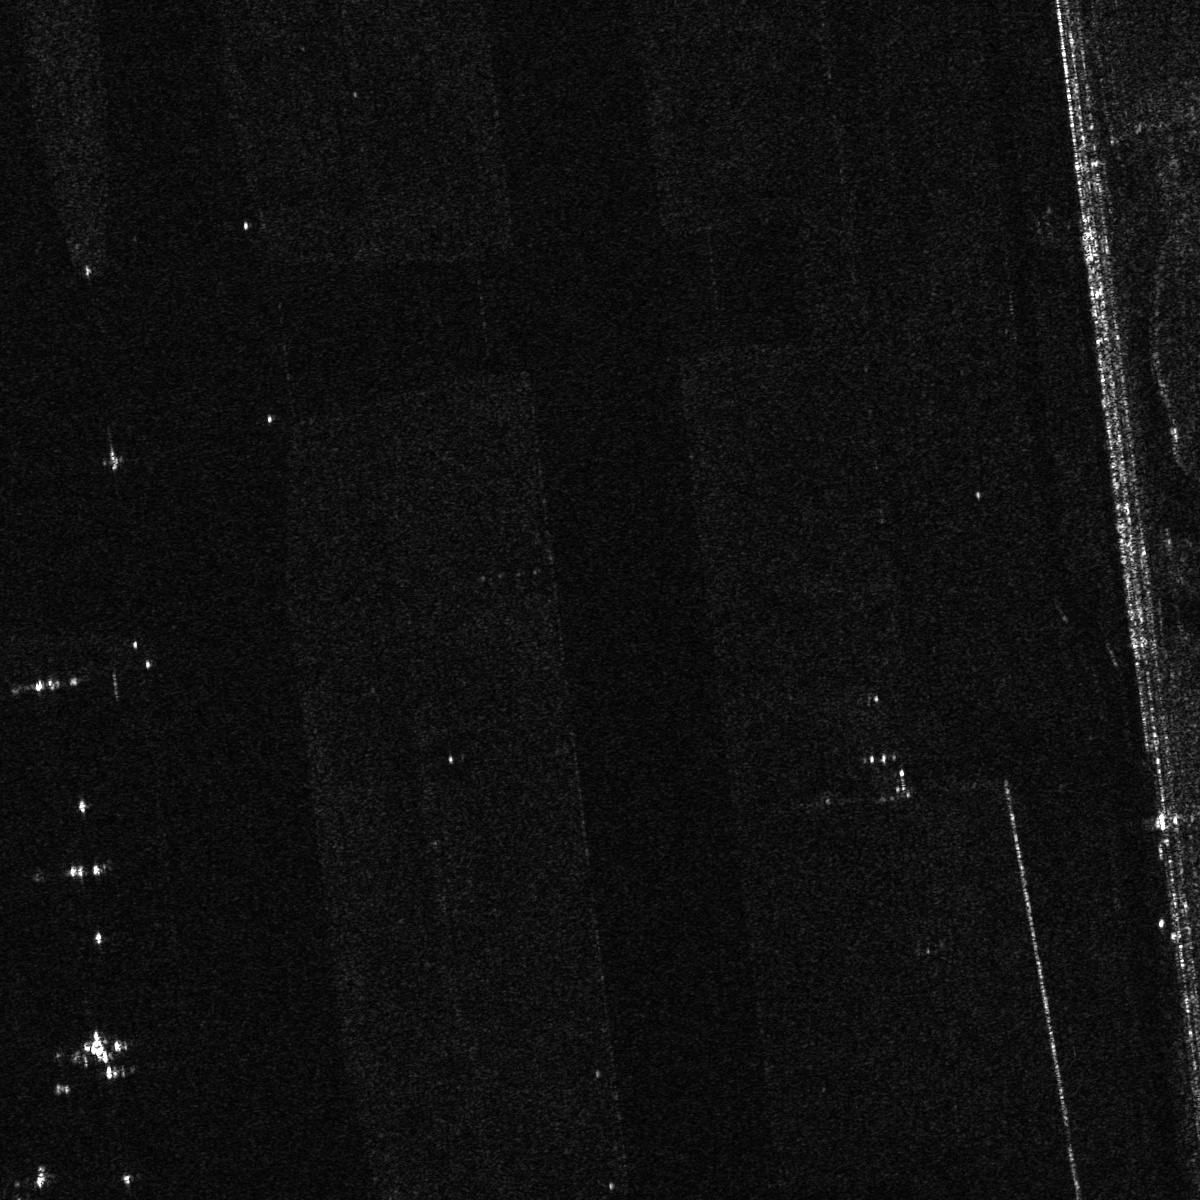A220: (71, 1023, 133, 1082)
